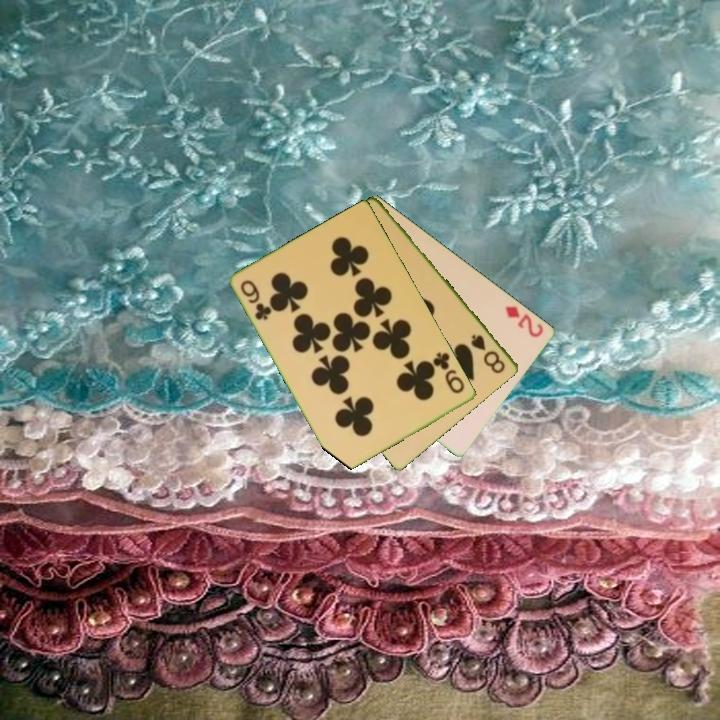2d: (502, 302, 547, 340)
8s: (467, 331, 508, 376)
9c: (429, 348, 468, 397), (237, 276, 275, 323)
